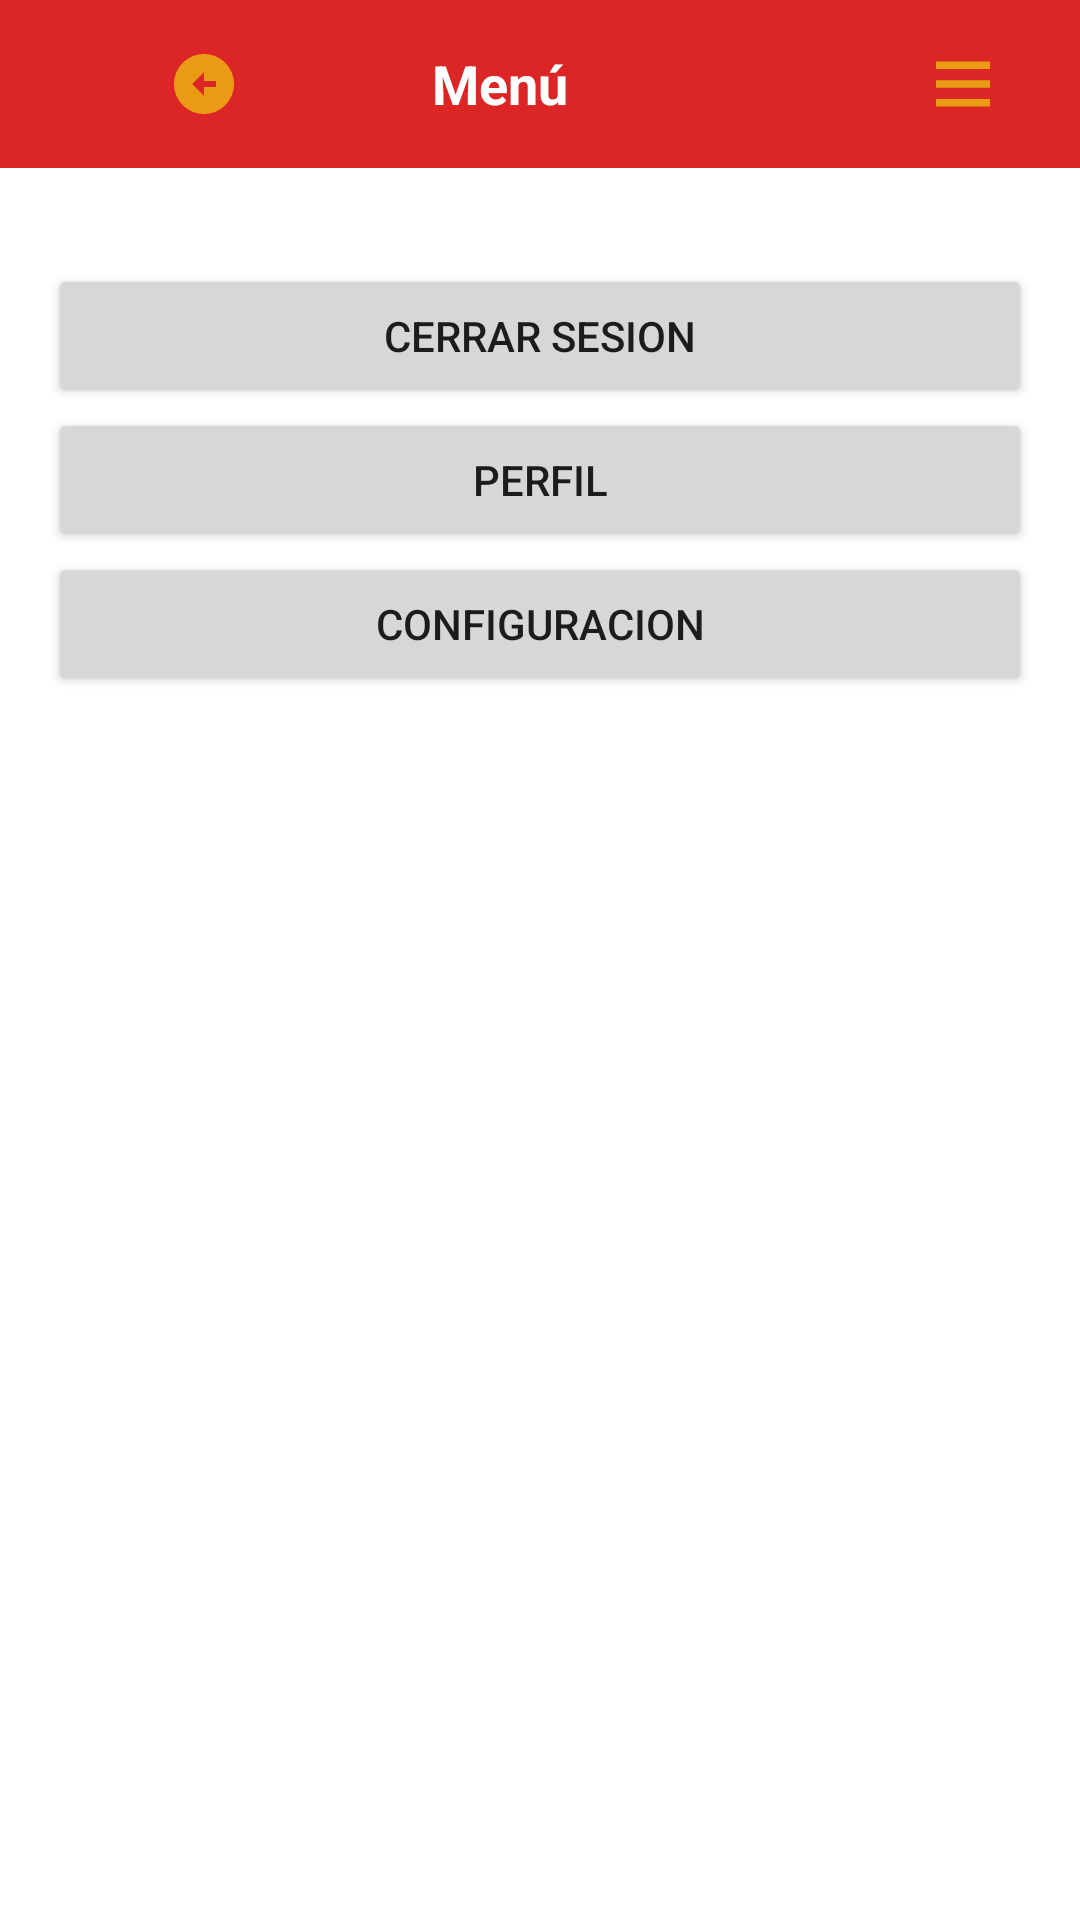

Icon bounding boxes for this 1080px×1920px phone screenshot, format (x1, y1, x2, y2):
arrow back: (174, 54, 234, 114)
